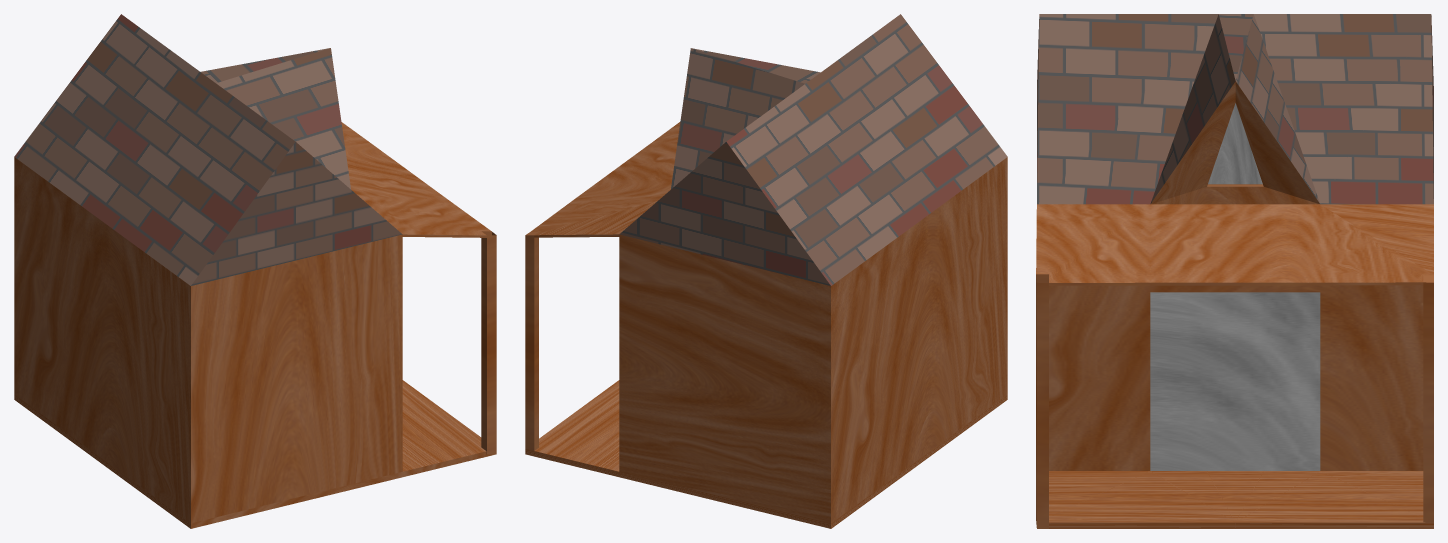
File: wood-house.fbx
3 renders of one model, left to right at view 1: azimuth 30°, elevation 25°; view 2: azimuth 150°, elevation 25°; view 3: azimuth 270°, elevation 25°, orthographic. The views are drawn at different scales.
Visible parts, largest first — view 1: Cube; view 2: Cube; view 3: Cube.
Boxes of the visible parts, <box> form: Cube: <box>14,14,496,528</box>; Cube: <box>525,14,1007,528</box>; Cube: <box>1036,14,1433,528</box>.
Bounding box in the file's own units: 200 × 225 × 200.
